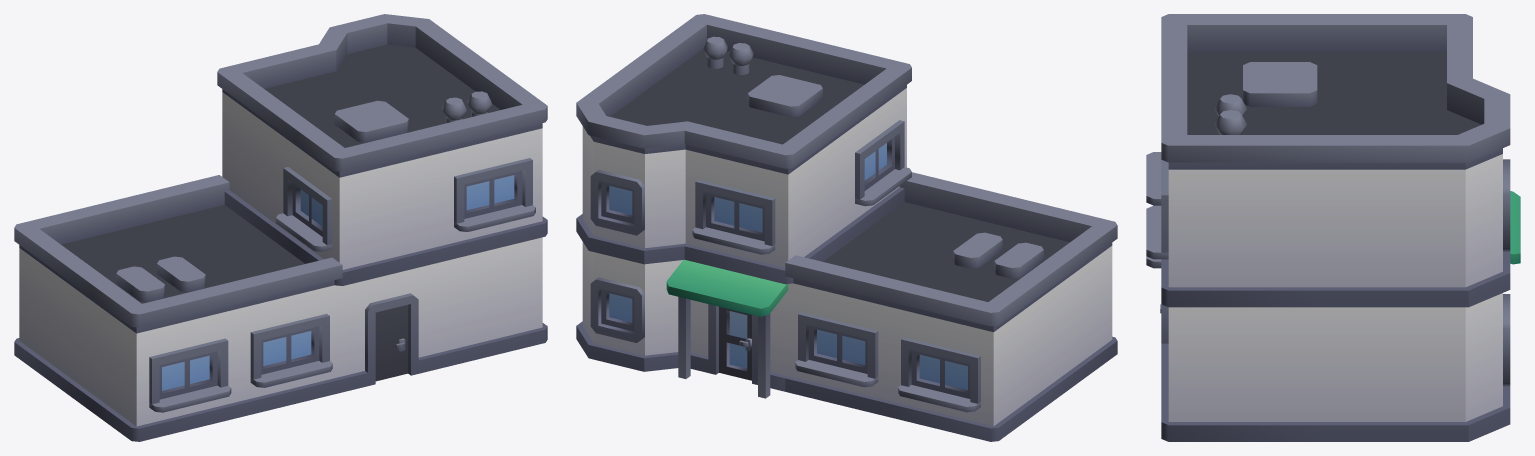
File: commercial-building-e.glb
The picture shows the model from 3 angles, left to right: view 1: azimuth 30°, elevation 25°; view 2: azimuth 150°, elevation 25°; view 3: azimuth 270°, elevation 25°; orthographic projection. The views are drawn at different scales.
Visible parts, largest first — view 1: building-e; view 2: building-e; view 3: building-e.
Part boxes in pixels (x1,y1,x2,y2): building-e: [14, 14, 547, 441]; building-e: [576, 14, 1117, 441]; building-e: [1146, 14, 1520, 441].
Bounding box in the file's own units: 1.64 × 0.893 × 1.01.
Materials: 1 (1 with a texture image).
